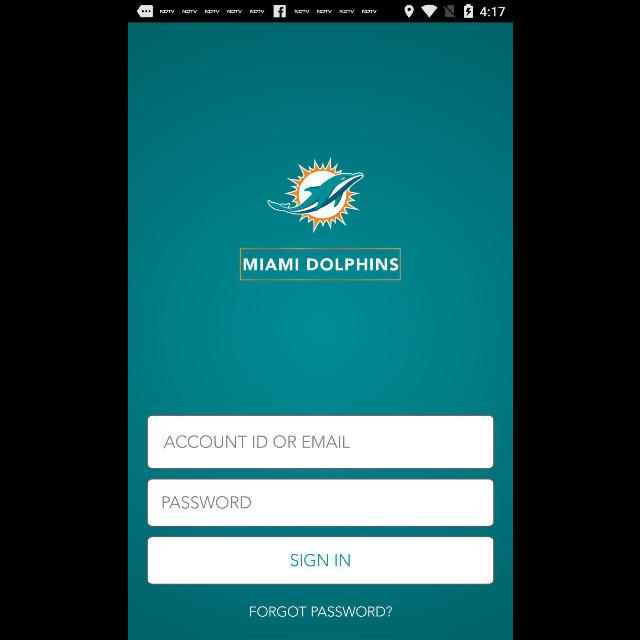image: (267, 157, 363, 233), (238, 248, 400, 282)
input: (146, 415, 494, 469), (146, 479, 494, 527)
text: (163, 436, 349, 448), (249, 606, 391, 618), (162, 496, 250, 508)
textbutton: (146, 536, 494, 584)
uppertaskbar: (128, 1, 512, 23)
